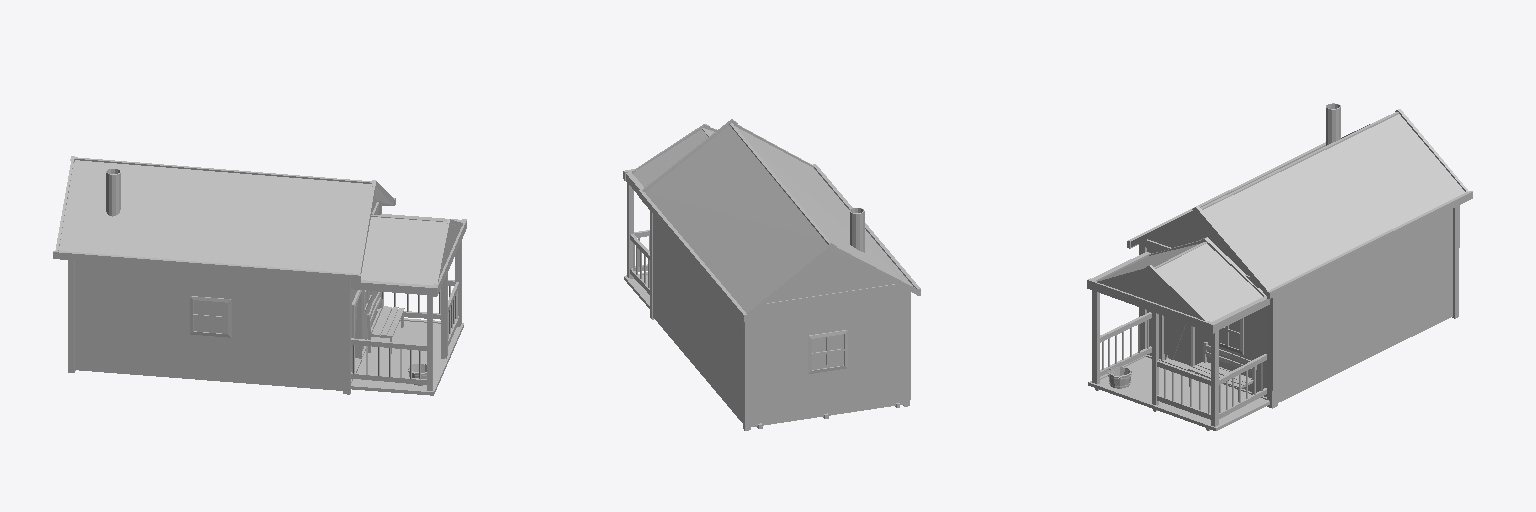
Rendered from small wooden cabin 2.obj.
3 views of the same model, side by side, from view 1: azimuth 30°, elevation 25°; view 2: azimuth 150°, elevation 25°; view 3: azimuth 270°, elevation 25° (orthographic).
Visible parts, largest first — view 1: Cube; view 2: Cube; view 3: Cube.
Part boxes in pixels (bbox=[...]): Cube: bbox=[53, 156, 466, 395]; Cube: bbox=[623, 119, 920, 430]; Cube: bbox=[1087, 103, 1472, 430].
Bounding box in the file's own units: 5.04 × 2.52 × 4.74.